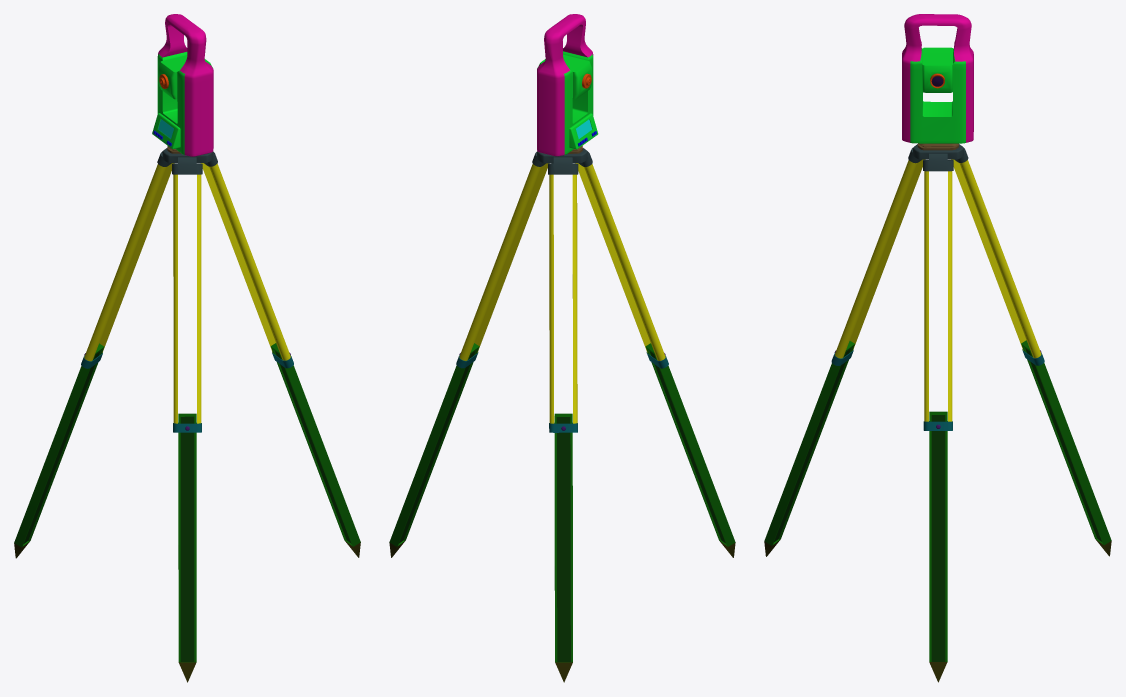
Rendered from leveldevice.fbx.
The picture shows the model from 3 angles, left to right: view 1: azimuth 30°, elevation 25°; view 2: azimuth 150°, elevation 25°; view 3: azimuth 270°, elevation 25°; orthographic projection.
Visible parts, largest first — view 1: vermessung; view 2: vermessung; view 3: vermessung.
Boxes of the visible parts, x1=… form: vermessung: x1=14, y1=14, x2=360, y2=682; vermessung: x1=389, y1=14, x2=735, y2=682; vermessung: x1=764, y1=14, x2=1111, y2=682.
Bounding box in the file's own units: 85.07 × 178 × 96.44.
